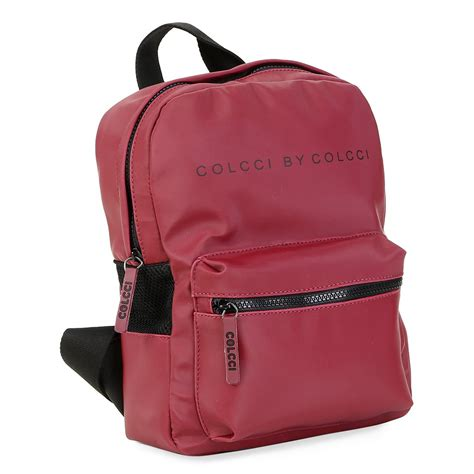nylon: (91, 18, 419, 455)
